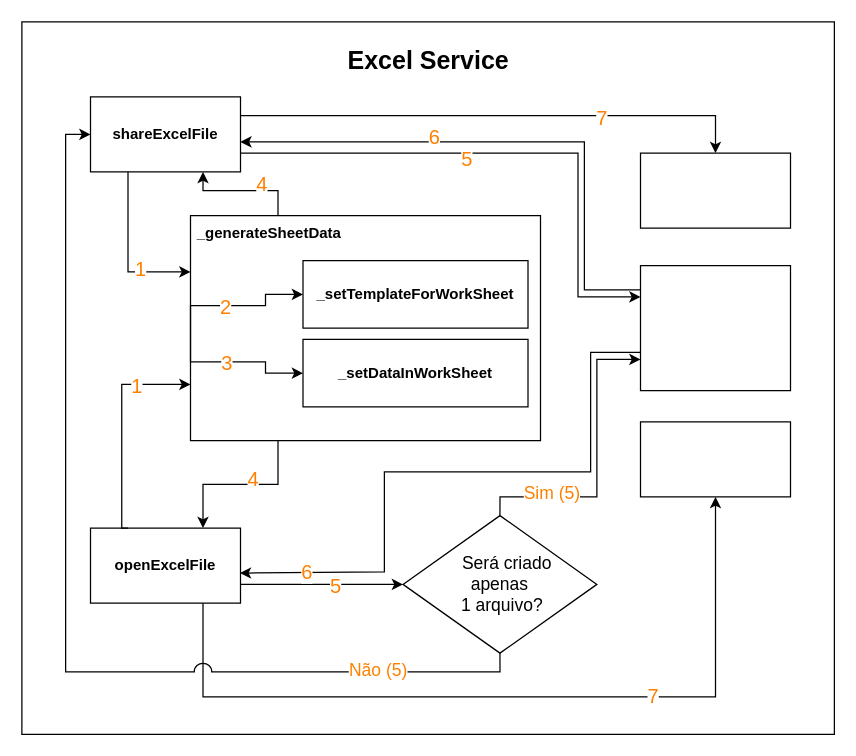
Image size: 856x756. Some labels were removed from this diagram. Here are the shapes that lost their labels. From the top down, the centre of each, then its label:
At point (714, 190): "_shareFile".
At point (714, 327): "_createFile".
At point (714, 459): "_openFile".
